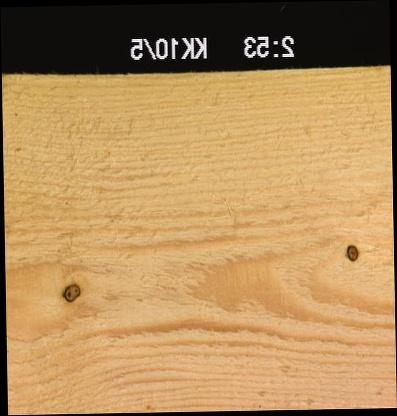dry_knot: (59, 282, 81, 303), (344, 242, 359, 262)
